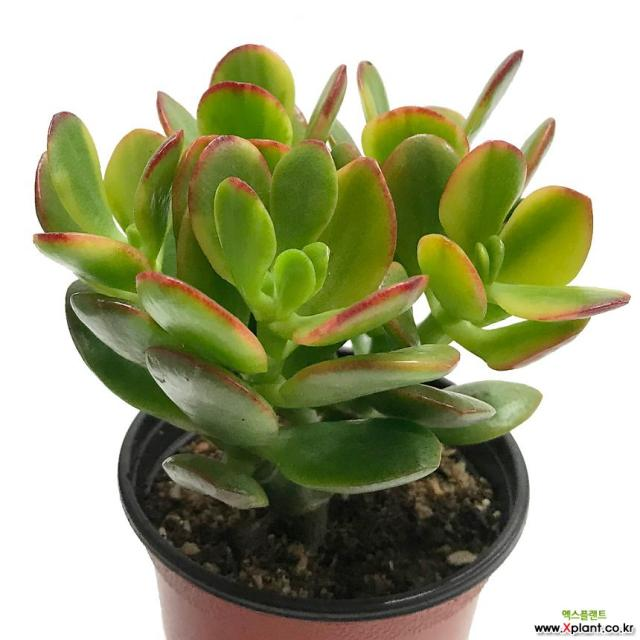Crassula: (125, 45, 450, 507), (362, 92, 600, 369), (34, 112, 195, 429)
